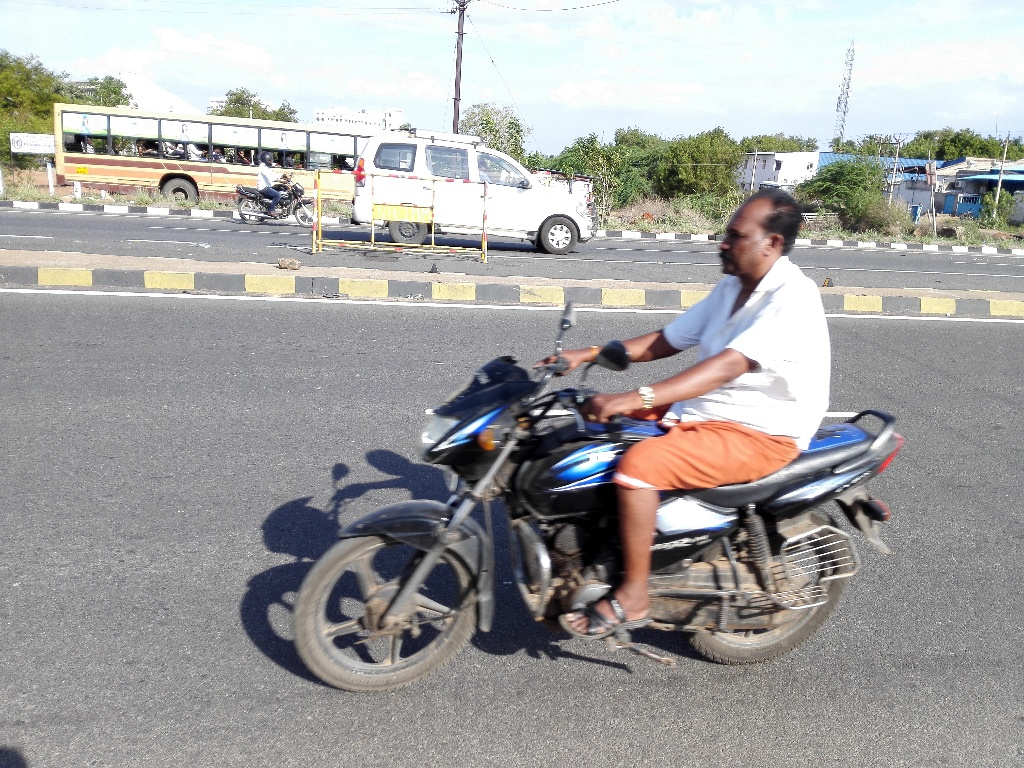biker: (276, 118, 918, 707), (228, 140, 328, 231)
helmet: (257, 145, 281, 173)
nohelmet: (703, 168, 815, 292)
